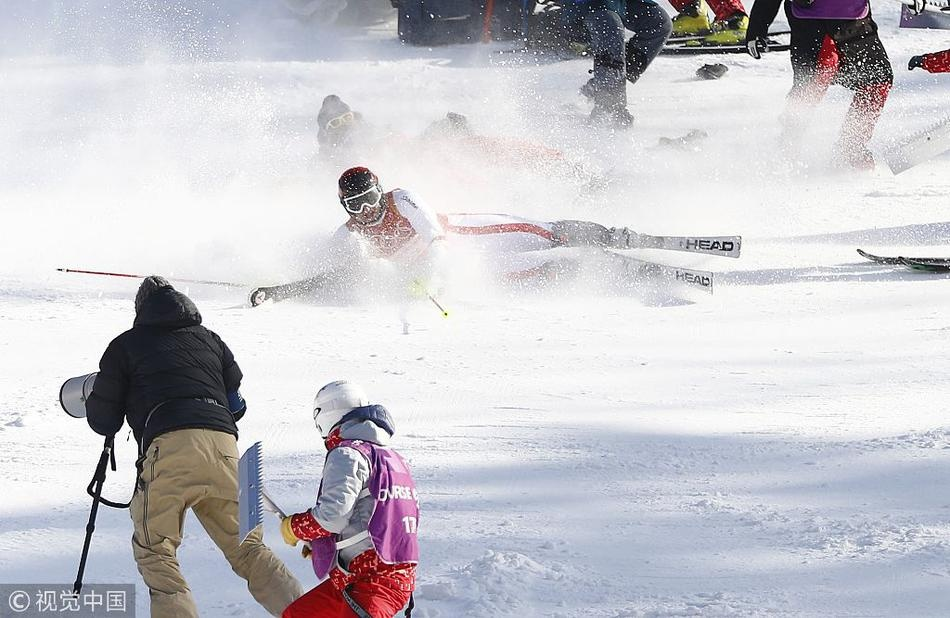falling: (263, 155, 762, 322)
